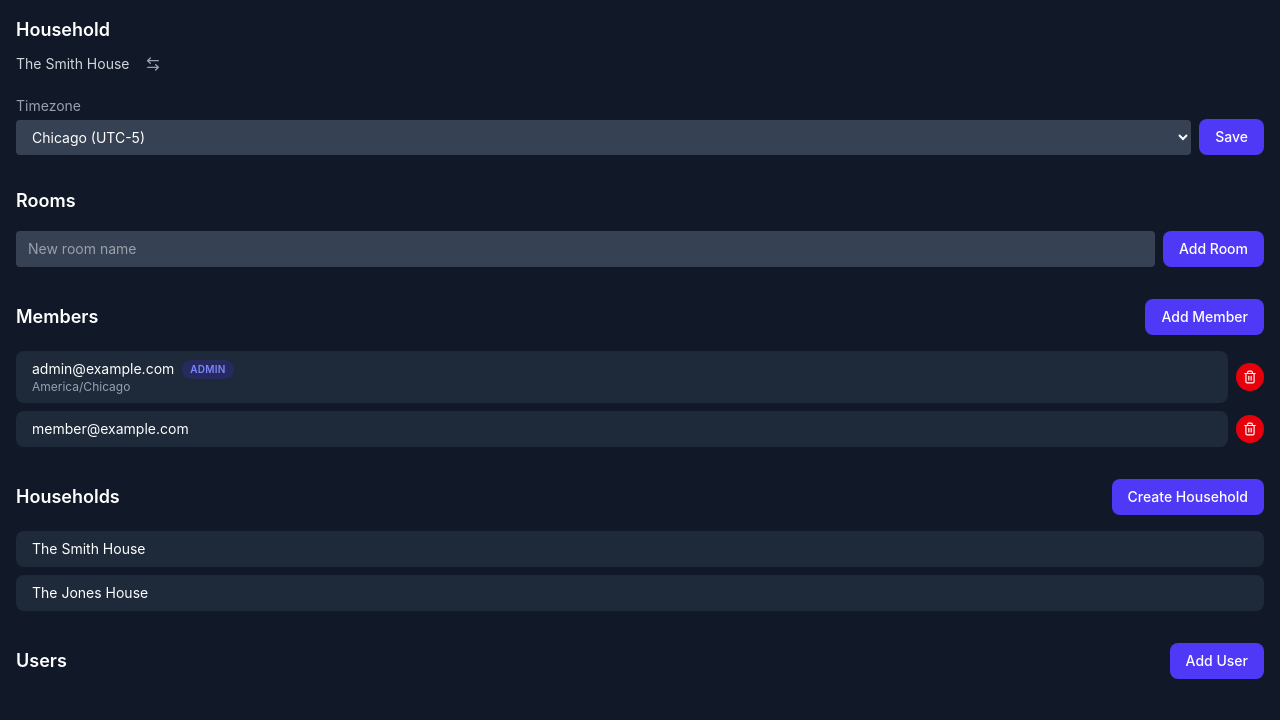
it: AdminPanel › shows a confirmation naming the target household when Add User targets a different household
The width and height of the screenshot is (1280, 720).
Check: the text "admin@example.com" is shown, box 32,359 -> 174,379
Click the button "Add User" at (1217,661), box 1170,643 -> 1264,679
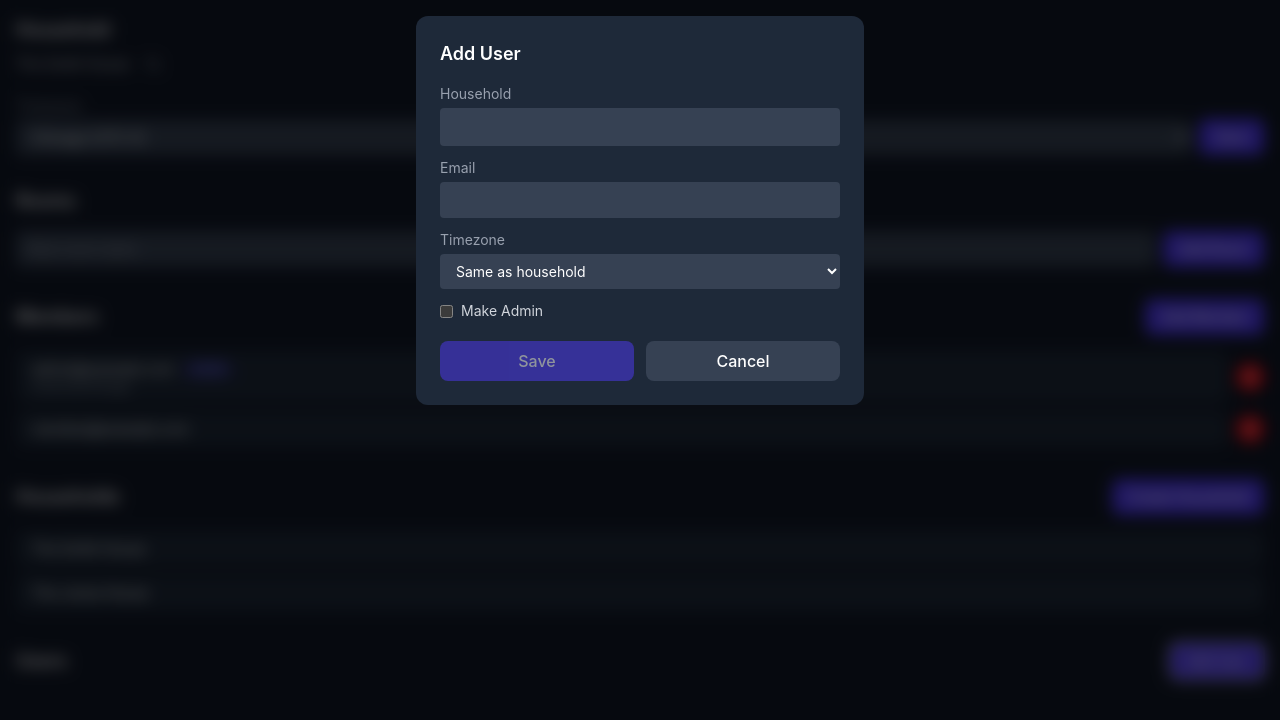
Type "Jones" into the dropdown labelled "Household" at (640,127), box 440,108 -> 840,146
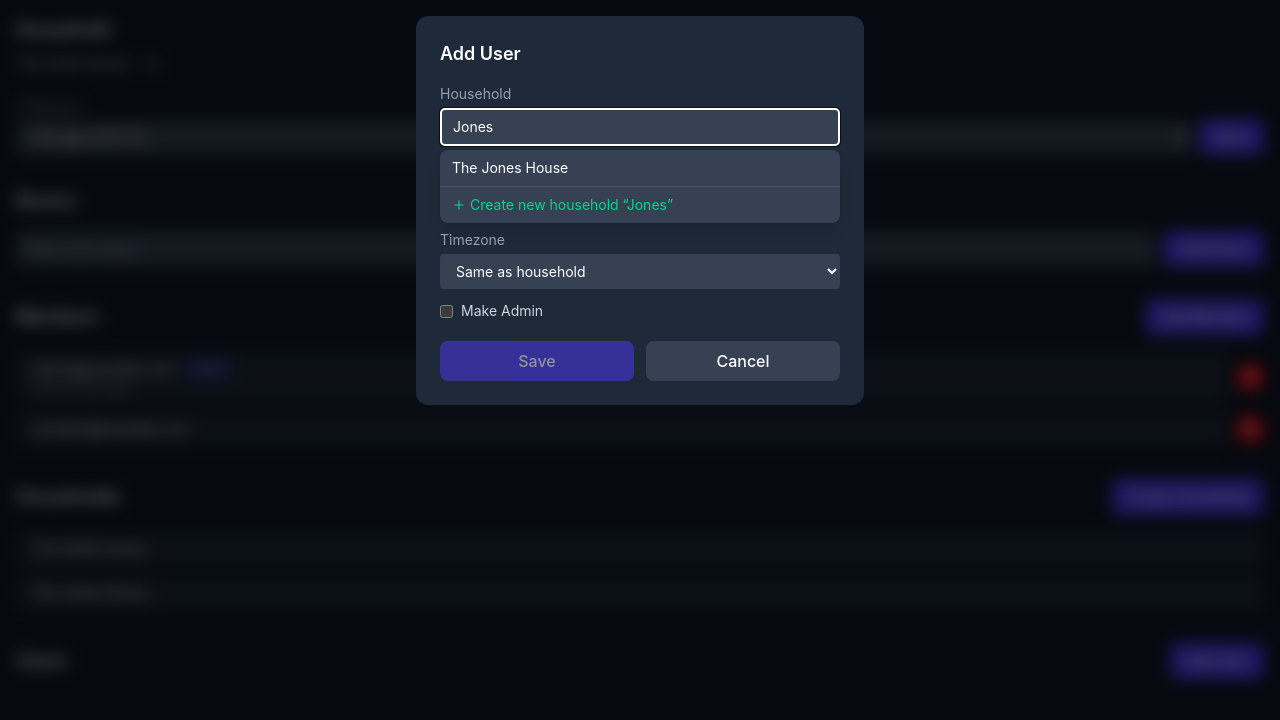
Click the option "The Jones House" at (510,168), box 452,159 -> 568,176
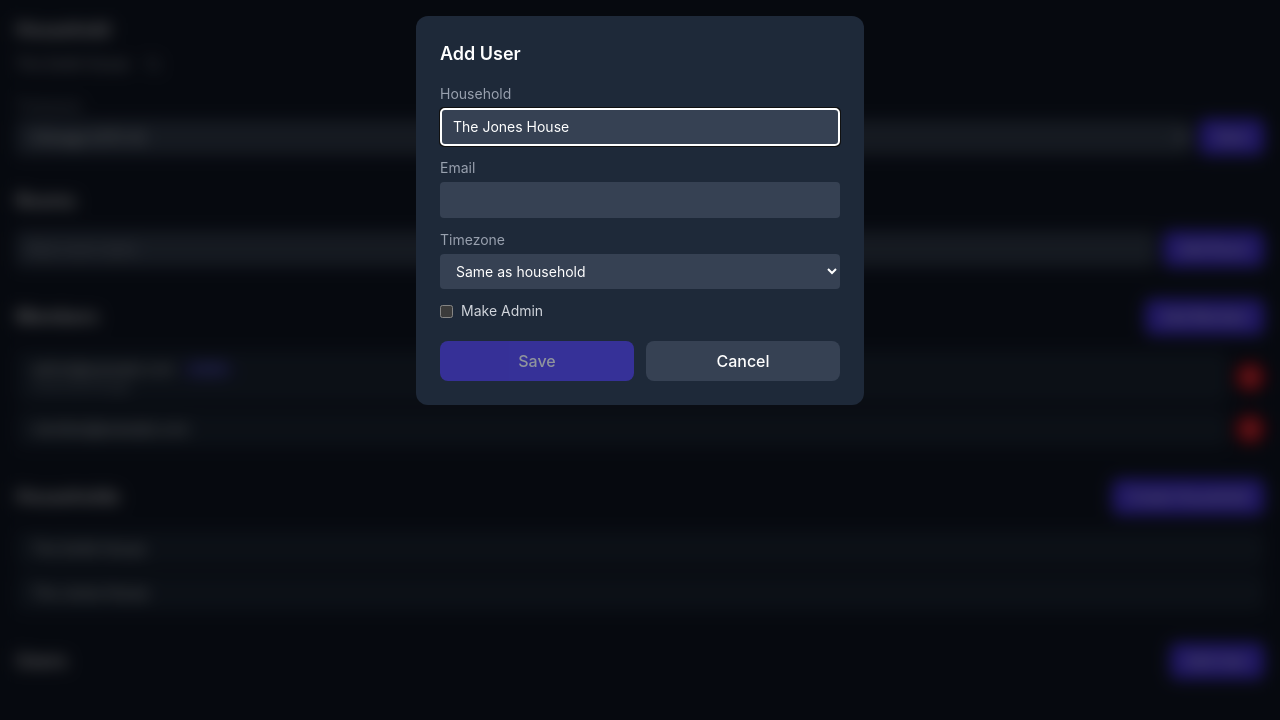
Type "other-house@example.com" into the field labelled "Email" at (640,200), box 440,182 -> 840,218
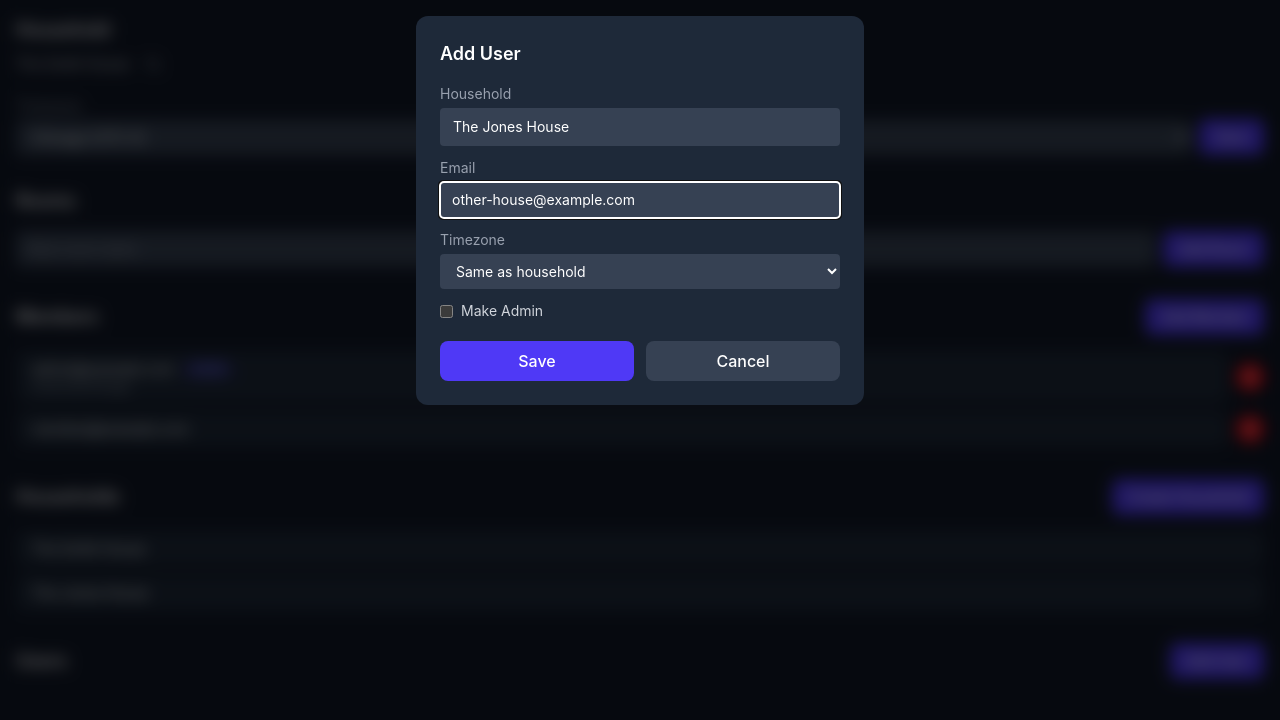
Click the button "Save" at (537,361), box 440,341 -> 634,381
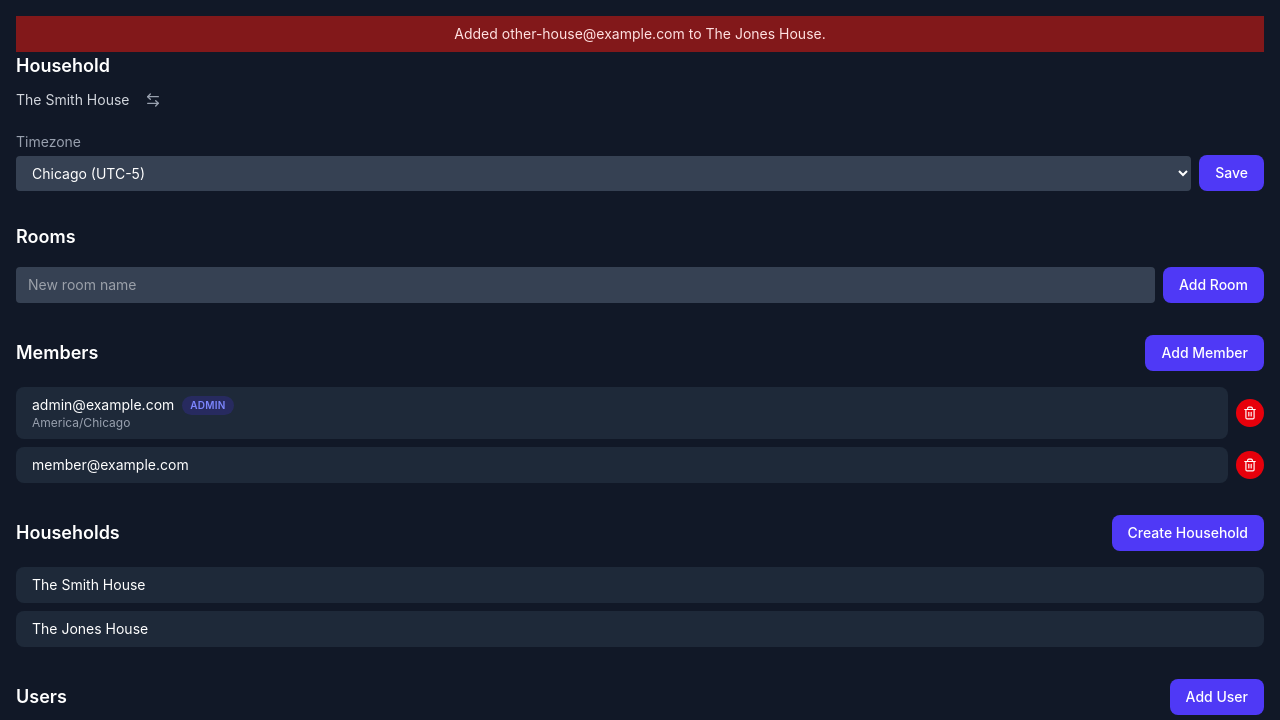
Check: the text "Added other-house@example.com to The Jones House." is shown, box 454,25 -> 826,42
